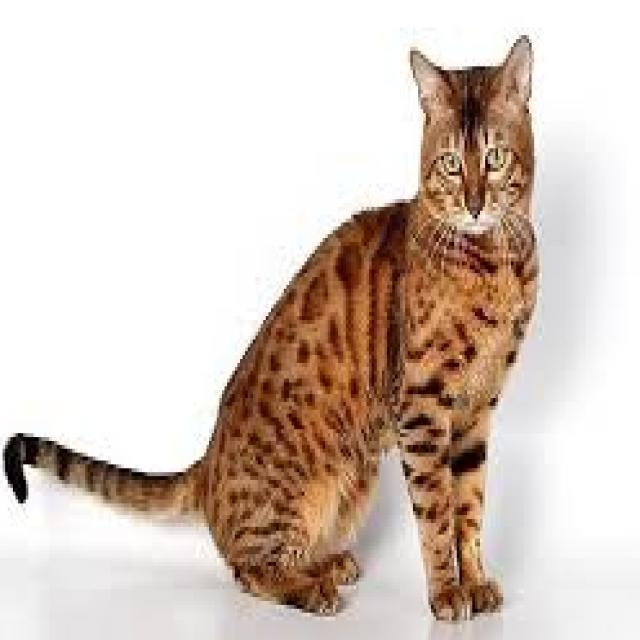Toyger: (0, 28, 542, 624)
